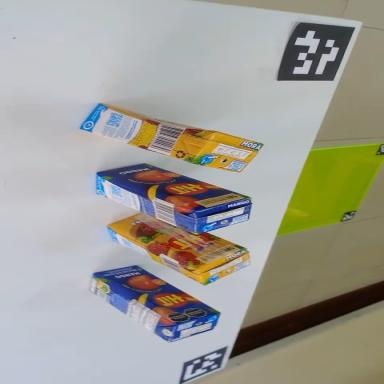HIT-MANGO: (88, 149, 254, 248), (82, 249, 222, 358)
HIT-MORA: (102, 199, 253, 297), (78, 100, 263, 179)
cara_F: (106, 195, 245, 283), (95, 150, 250, 227), (93, 249, 220, 340)
